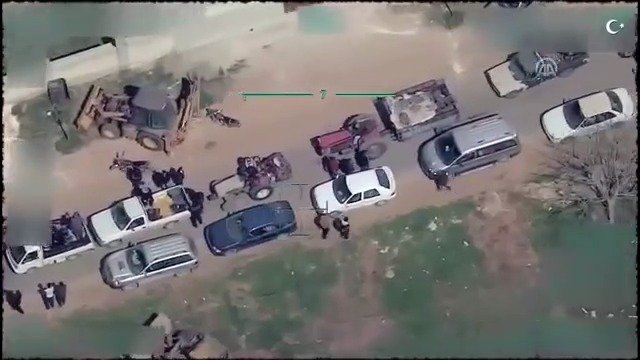arac: (314, 69, 464, 164), (78, 67, 211, 160), (415, 106, 527, 186), (92, 178, 202, 253), (99, 228, 202, 294), (539, 84, 638, 152), (202, 195, 299, 261), (2, 203, 90, 275), (209, 142, 300, 210), (308, 162, 402, 227), (202, 100, 240, 129)
insan: (332, 212, 359, 238), (39, 279, 58, 310), (55, 275, 73, 305), (171, 162, 188, 186)
